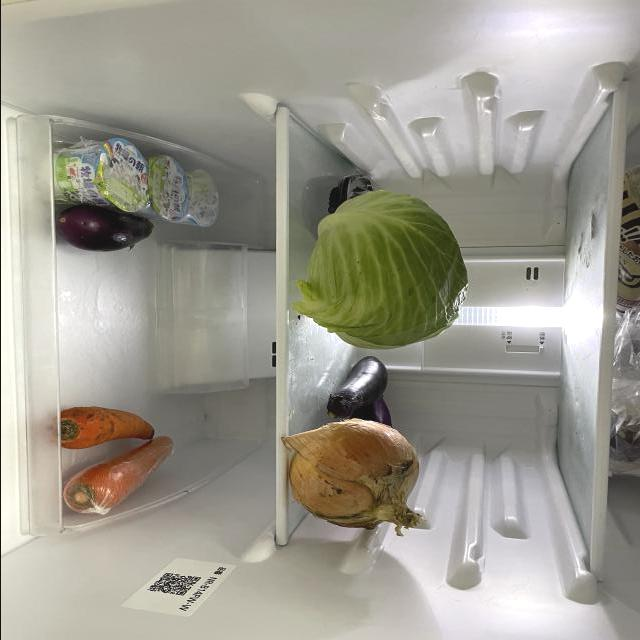cabbage: (295, 193, 471, 349)
carrot: (61, 436, 177, 520), (53, 405, 155, 454)
eggplant: (53, 207, 155, 255), (330, 358, 392, 416), (363, 397, 393, 429)
onion: (284, 419, 426, 535)
